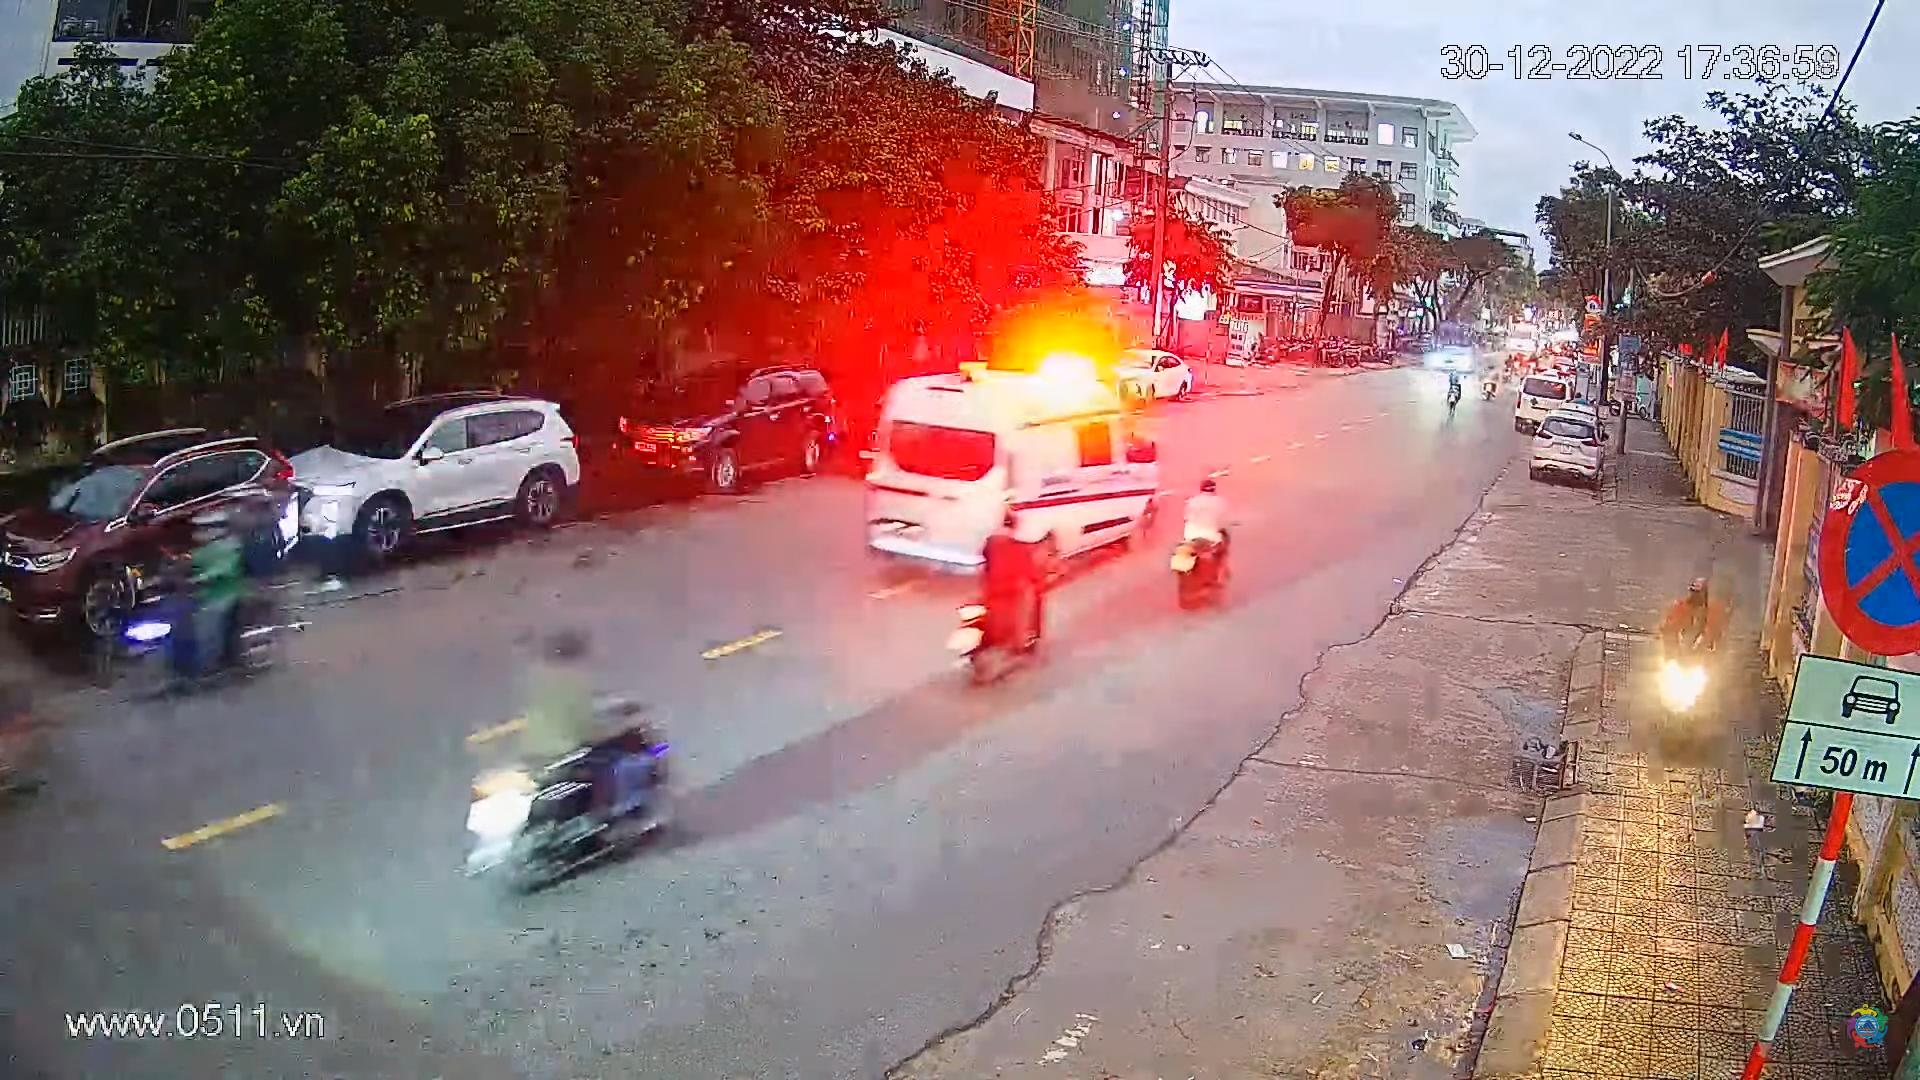ambulance: (857, 336, 1170, 579)
